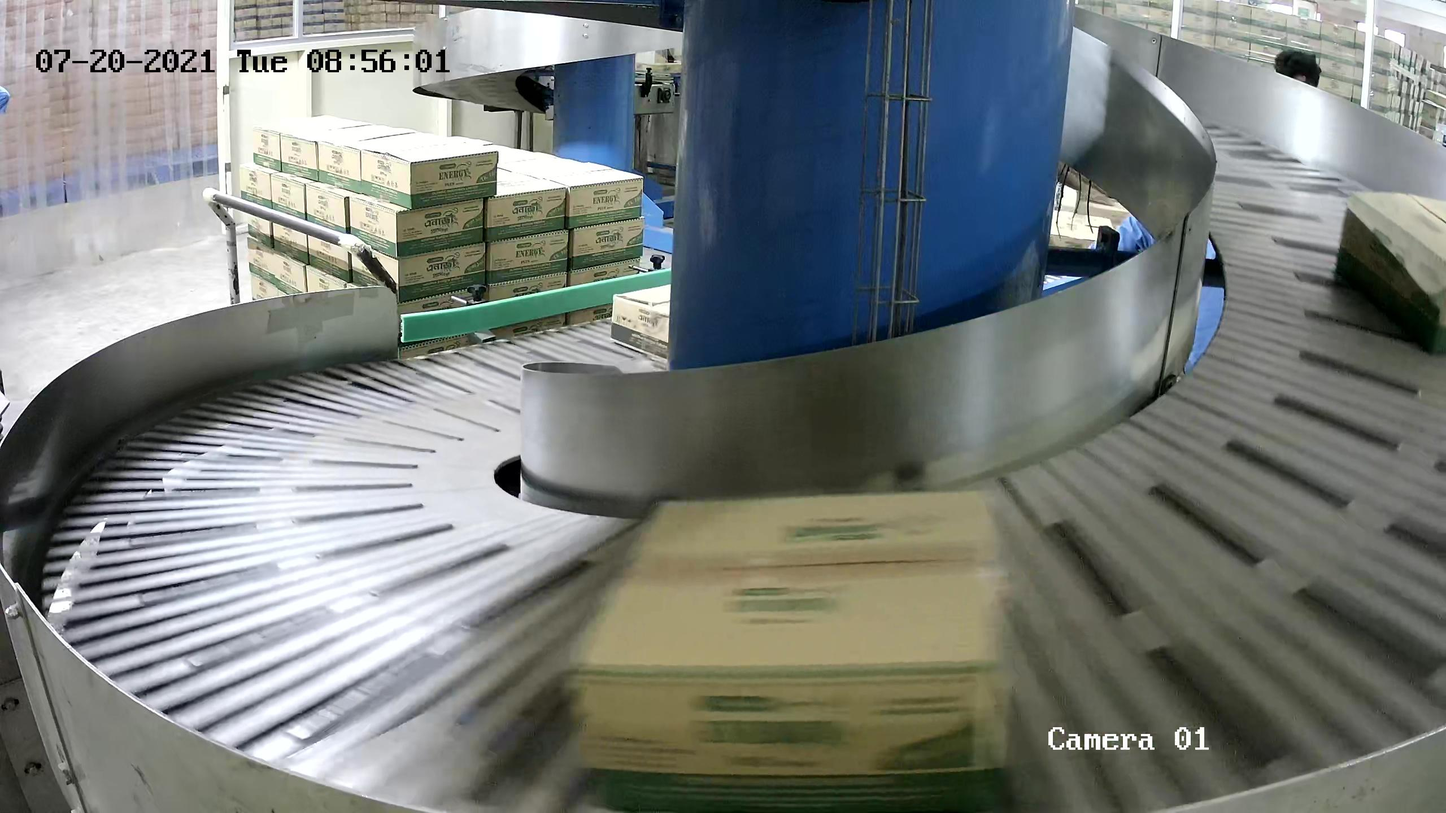Box: (556, 484, 1013, 813), (1333, 188, 1446, 358), (609, 283, 672, 365)
